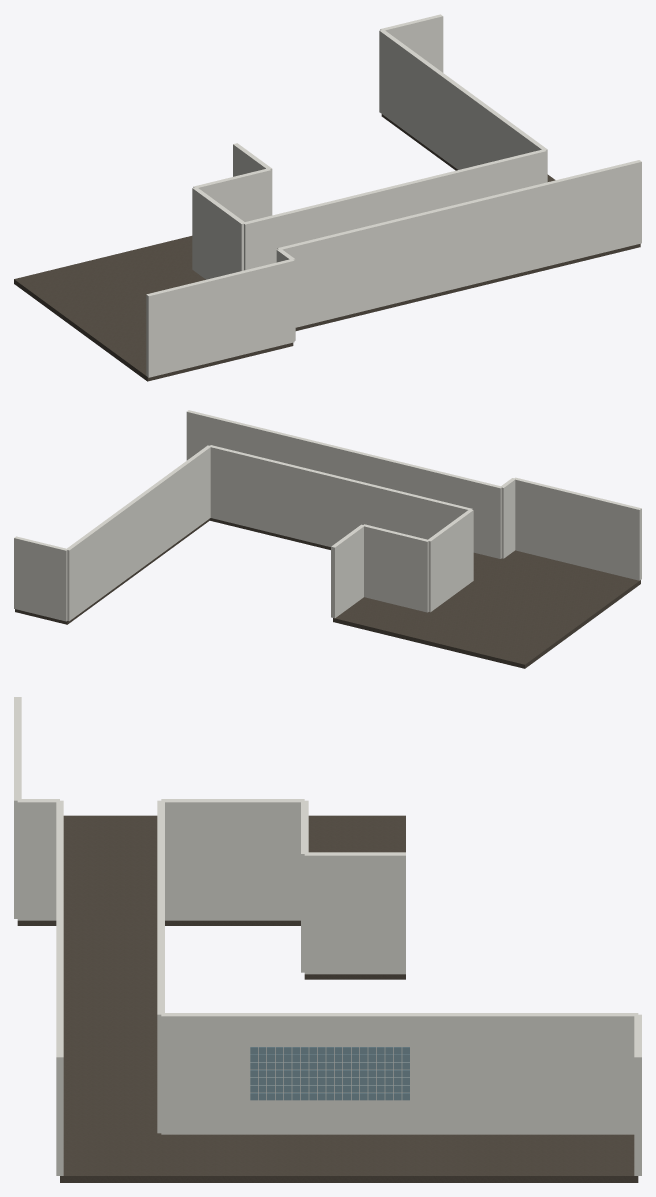
The model's file is SM_F03_Corridors.fbx.
3 renders of one model, top to bottom at view 1: azimuth 30°, elevation 25°; view 2: azimuth 150°, elevation 25°; view 3: azimuth 270°, elevation 25°, orthographic. The views are drawn at different scales.
Visible parts, largest first — view 1: SM_F03_Corridors; view 2: SM_F03_Corridors; view 3: SM_F03_Corridors.
Part boxes in pixels (x1,y1,x2,y2): SM_F03_Corridors: (14,14,641,381); SM_F03_Corridors: (14,410,641,668); SM_F03_Corridors: (14,697,641,1182).
Bounding box in the file's own units: 2020 × 1488 × 328.
Materials: 3 (1 with a texture image).
